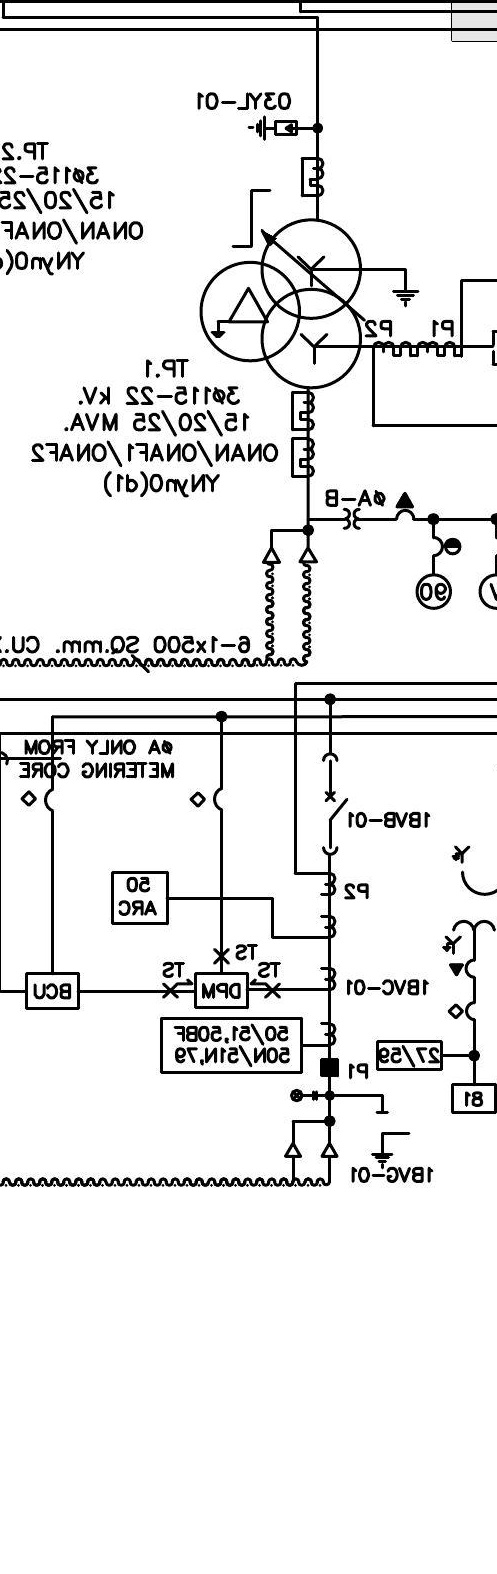11522_tx_ynyn0d1: (198, 217, 362, 390)
115_la: (247, 114, 299, 142)
22_breaker: (321, 752, 348, 856)
22_gs: (369, 1110, 412, 1170)
22_ll: (289, 1088, 318, 1102)
BCU: (24, 972, 80, 1011)
DPM: (195, 972, 250, 1010)
terminator_double: (283, 1119, 339, 1158), (261, 528, 319, 564)
